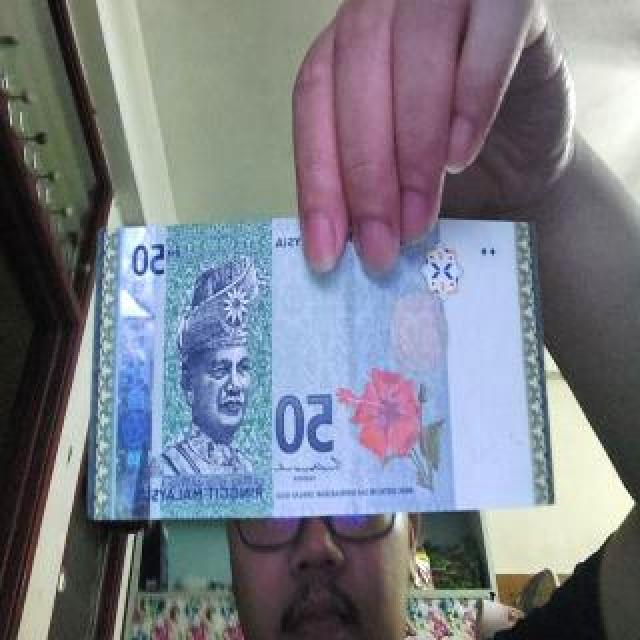50 Ringgit: (86, 210, 557, 523)
